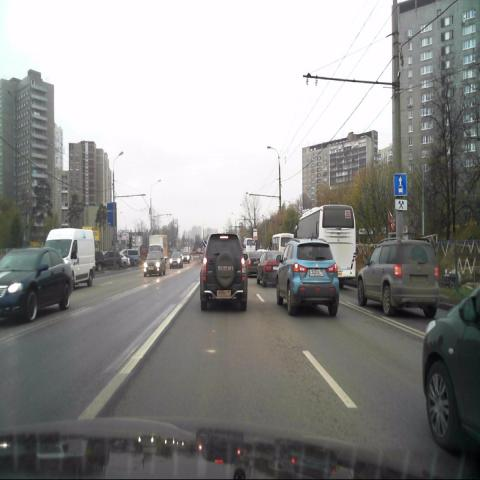5_14: (394, 173, 407, 195)
